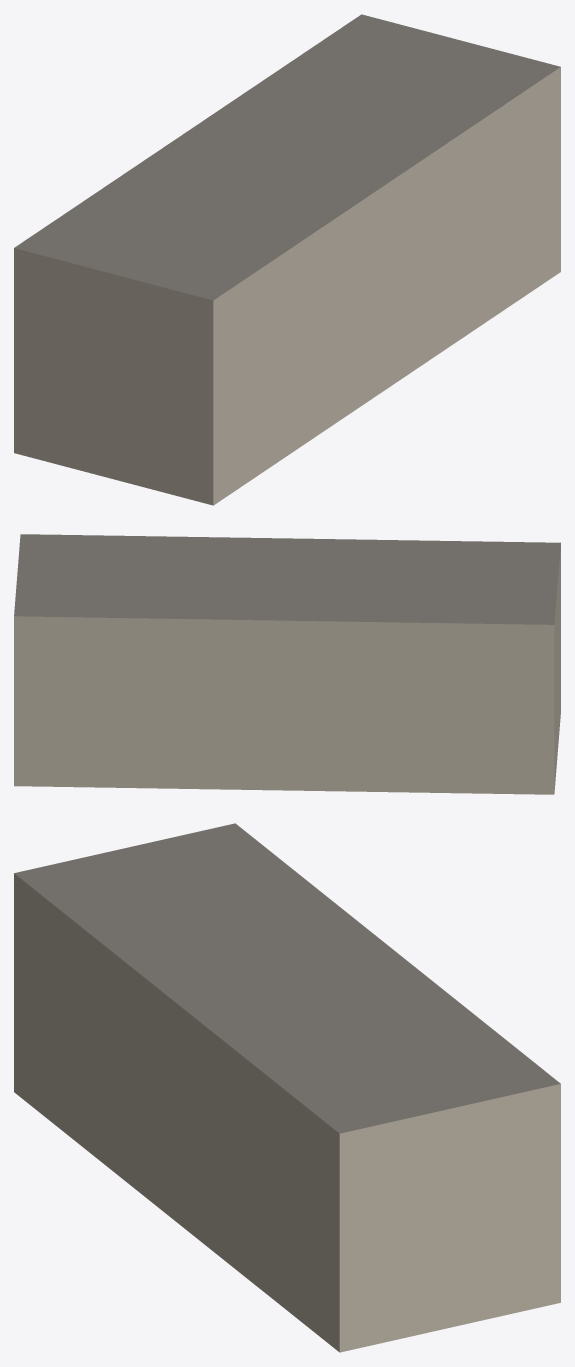
3 views of the same model, one above another, from view 1: azimuth 30°, elevation 25°; view 2: azimuth 150°, elevation 25°; view 3: azimuth 270°, elevation 25° (orthographic). The views are drawn at different scales.
Parts seen in each view (by area): view 1: HP-w1286965204; view 2: HP-w1286965204; view 3: HP-w1286965204.
Part boxes in pixels (<box>): HP-w1286965204: <box>14,14,560,505</box>; HP-w1286965204: <box>14,534,560,794</box>; HP-w1286965204: <box>14,823,560,1352</box>.
Bounding box in the file's own units: 54.72 × 18 × 40.76.
